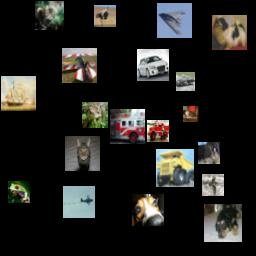airplane: (157, 3, 192, 38), (62, 48, 97, 83), (63, 186, 95, 218)
automobile: (137, 49, 169, 81)
bird: (94, 5, 116, 27), (202, 174, 224, 196)
cat: (65, 136, 100, 171), (35, 1, 64, 30), (183, 106, 199, 122)
deer: (198, 142, 220, 164)
dog: (204, 204, 242, 242), (212, 15, 247, 50), (132, 194, 164, 226)
frog: (82, 102, 108, 128), (8, 181, 30, 203), (176, 72, 195, 91)
ship: (1, 76, 36, 111)
truck: (156, 149, 194, 187), (110, 109, 145, 144), (147, 120, 169, 142)
